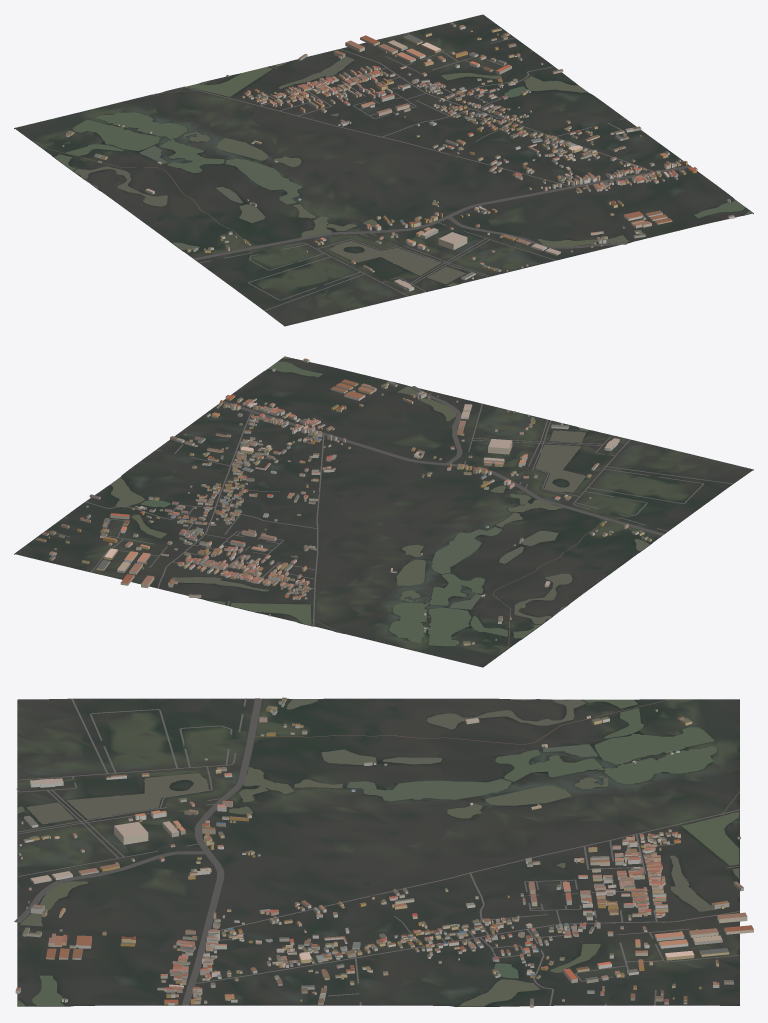
The picture shows the model from 3 angles, top to bottom: view 1: azimuth 30°, elevation 25°; view 2: azimuth 150°, elevation 25°; view 3: azimuth 270°, elevation 25°; orthographic projection. The views are drawn at different scales.
Visible parts, largest first — view 1: ground, buildings, water, roads; view 2: ground, buildings, water, roads; view 3: ground, water, buildings, roads.
Boxes of the visible parts, left/top/right/bottom form: ground: left=14, top=14, right=753, bottom=326; buildings: left=62, top=22, right=734, bottom=291; water: left=54, top=56, right=752, bottom=286; roads: left=39, top=33, right=691, bottom=310; ground: left=14, top=358, right=753, bottom=667; buildings: left=36, top=358, right=651, bottom=645; water: left=110, top=356, right=649, bottom=646; roads: left=46, top=386, right=733, bottom=648; ground: left=17, top=698, right=739, bottom=1006; water: left=17, top=699, right=739, bottom=1006; buildings: left=15, top=697, right=753, bottom=1007; roads: left=14, top=698, right=739, bottom=1005.
Size of the model in its own units: 1408 by 24.45 by 1435.
